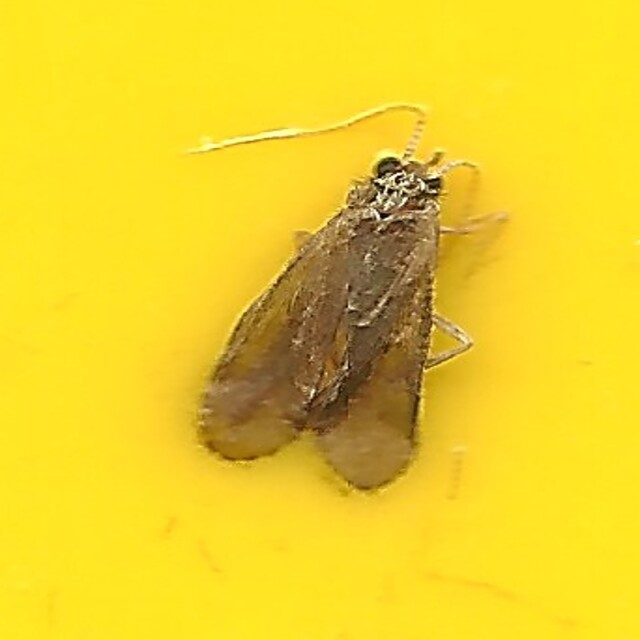Trichoptera: (187, 145, 453, 495)
